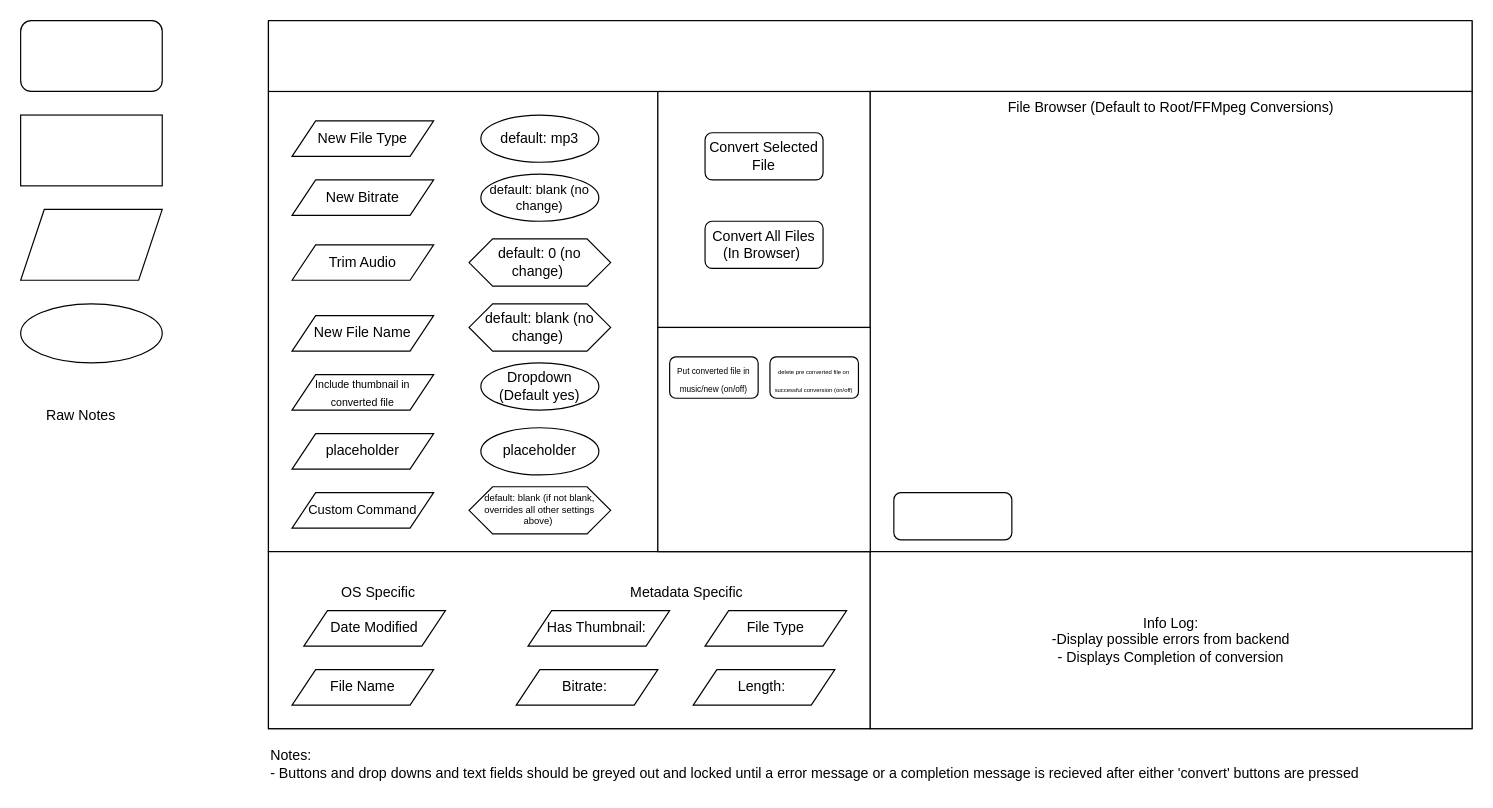
This 1493x808 diagram has some shape labels left out. The shapes that lost their labels are listed below. From the top down, each one's box as (x1, y1, x2, y2) in pixels, then its label:
(19, 19, 162, 91): Button
(267, 19, 1472, 91): Navbar
(19, 114, 162, 186): Container
(657, 90, 870, 327): Convert Control Container
(19, 208, 162, 280): Label
(19, 303, 162, 363): Dropdown
(267, 90, 658, 552): Settings Container
(657, 326, 870, 552): Toggle Settings Container
(893, 491, 1012, 540): Browse For Single File
(267, 550, 870, 729): Lower Info Container (Only for selected file)
